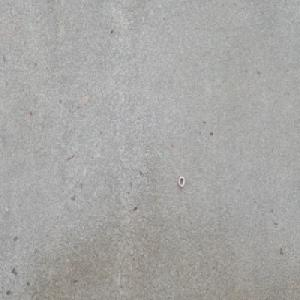Nut: (177, 175, 185, 188)
